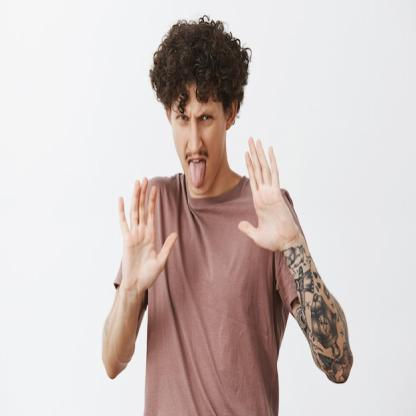stop: (236, 130, 295, 258), (116, 171, 178, 286)
